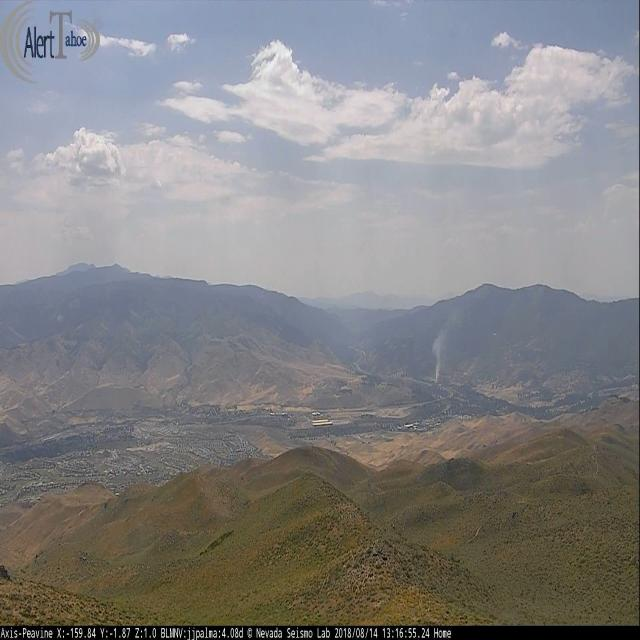smoke: (432, 326, 447, 383)
